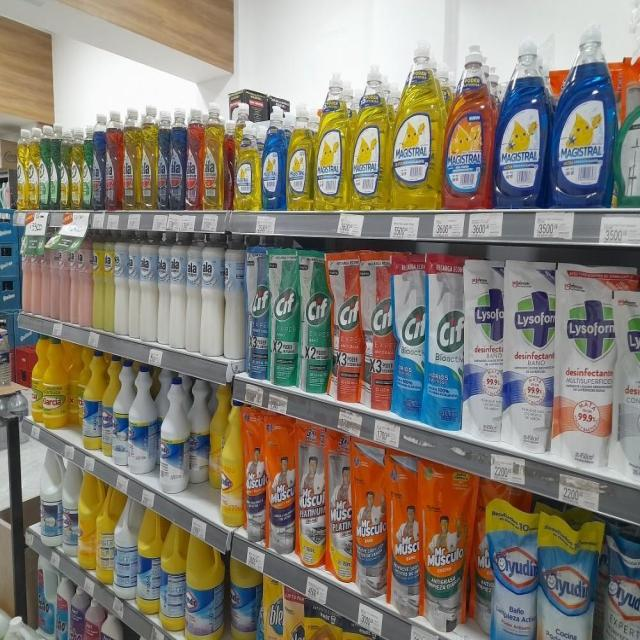ala_conc_amarillo: (203, 104, 224, 211), (123, 105, 140, 211), (140, 103, 156, 211)
ala_conc_azul: (170, 105, 186, 211), (92, 110, 106, 210), (157, 105, 169, 211)
ala_conc_rojo: (186, 106, 202, 211), (106, 107, 122, 211)
ala_crem_amarillo: (92, 230, 104, 331), (104, 230, 114, 333)
ala_crem_blanco: (201, 232, 223, 357), (223, 233, 244, 361), (140, 230, 157, 342), (186, 233, 201, 353), (170, 232, 185, 349), (157, 232, 170, 346), (115, 230, 128, 336), (128, 230, 140, 339)
ala_crem_rosado: (77, 229, 91, 327)
cif_conc_bot_amarilla: (16, 126, 28, 210), (71, 123, 82, 210), (60, 122, 70, 210), (28, 126, 38, 209)
cif_conc_botella_verde: (39, 124, 50, 210), (82, 120, 92, 210), (50, 123, 59, 210)
magistral_con_amarillo: (392, 36, 443, 210), (351, 58, 390, 211), (315, 67, 349, 211), (286, 100, 314, 212), (235, 130, 260, 210), (306, 613, 335, 640)
magistral_con_azul: (552, 18, 614, 208), (496, 31, 548, 210), (262, 117, 285, 210)
magistral_con_rojo: (445, 34, 493, 210)
